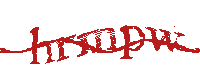h: (30, 27, 54, 67)
m: (78, 28, 119, 57)
p: (120, 22, 145, 62)
r: (56, 35, 76, 61)
w: (146, 25, 183, 53)
